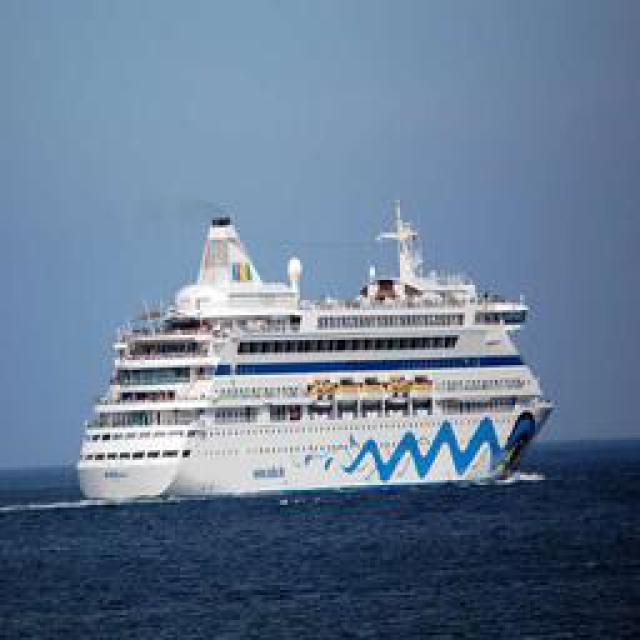Ship: (78, 199, 553, 504)
